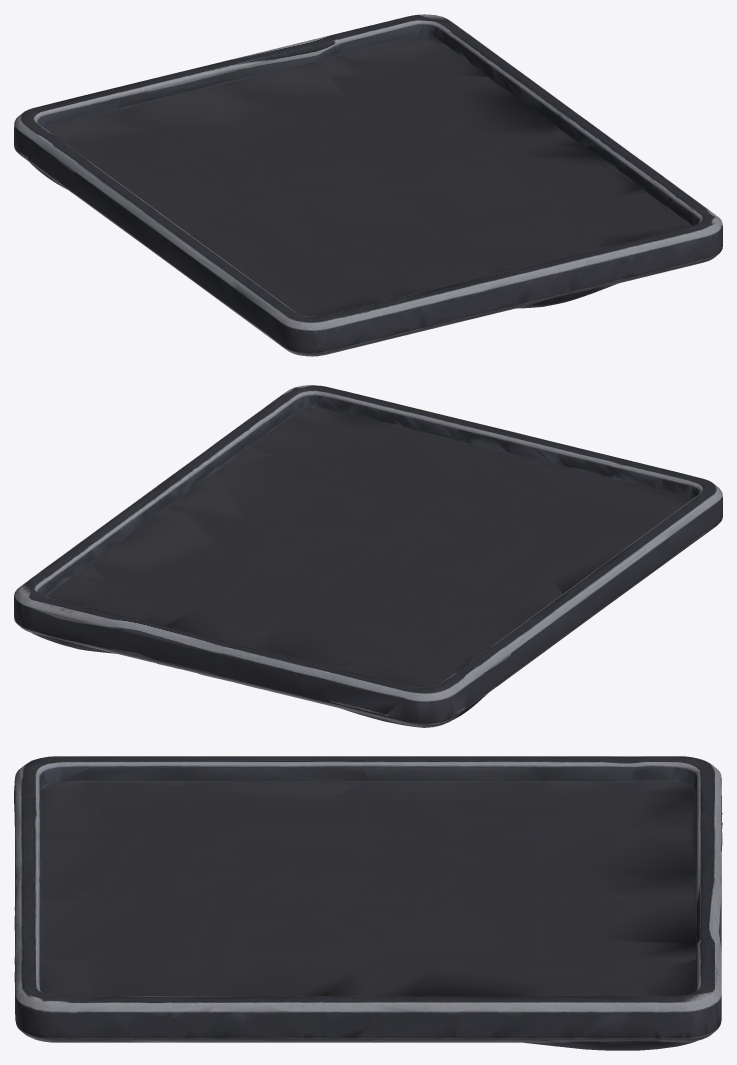
File: object-plate.glb
The picture shows the model from 3 angles, top to bottom: view 1: azimuth 30°, elevation 25°; view 2: azimuth 150°, elevation 25°; view 3: azimuth 270°, elevation 25°; orthographic projection. The views are drawn at different scales.
Parts seen in each view (by area): view 1: tripo_node_c9dd7d2c-8ed7-43c8-ad42-f0909ecce033; view 2: tripo_node_c9dd7d2c-8ed7-43c8-ad42-f0909ecce033; view 3: tripo_node_c9dd7d2c-8ed7-43c8-ad42-f0909ecce033.
Part boxes in pixels (left/top/right/bottom): tripo_node_c9dd7d2c-8ed7-43c8-ad42-f0909ecce033: left=14, top=14, right=722, bottom=356; tripo_node_c9dd7d2c-8ed7-43c8-ad42-f0909ecce033: left=14, top=385, right=722, bottom=727; tripo_node_c9dd7d2c-8ed7-43c8-ad42-f0909ecce033: left=14, top=756, right=722, bottom=1050.
Bounding box in the file's own units: 0.8474 × 0.1019 × 1.
Materials: 1 (1 with a texture image).
